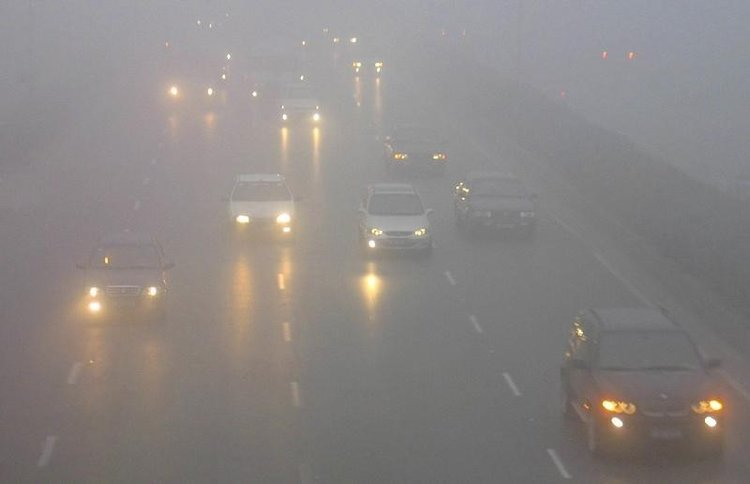car: (559, 306, 744, 472), (78, 232, 172, 323), (453, 175, 537, 238), (226, 174, 297, 245), (362, 183, 433, 253), (383, 121, 449, 177), (274, 86, 321, 126), (592, 28, 636, 64), (349, 45, 380, 75)
truck: (164, 26, 221, 111), (248, 38, 297, 102)
